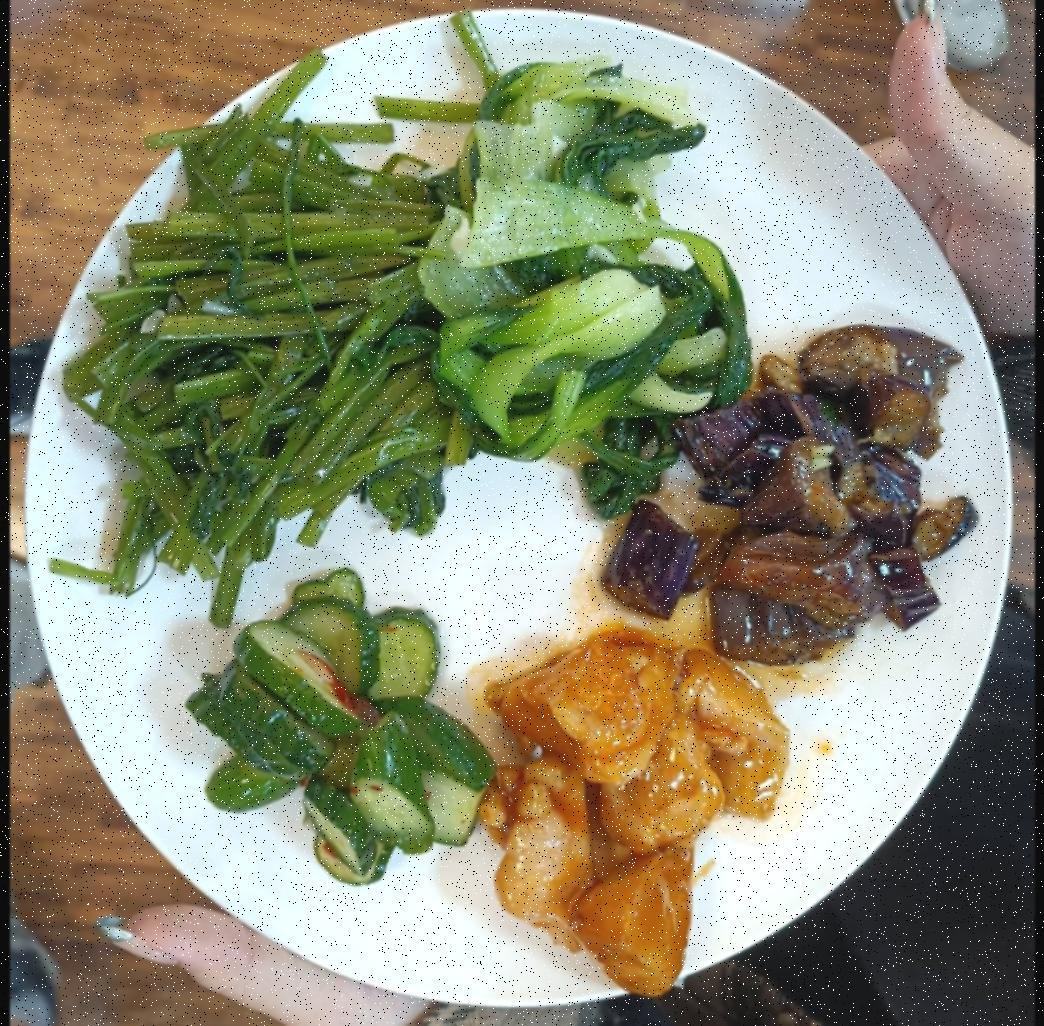big fried chicken leg: (9, 14, 1015, 1025)
braised fish fillet: (82, 129, 479, 589), (430, 39, 736, 509), (655, 344, 972, 664), (202, 571, 493, 879)
braised pork: (467, 628, 783, 971)
